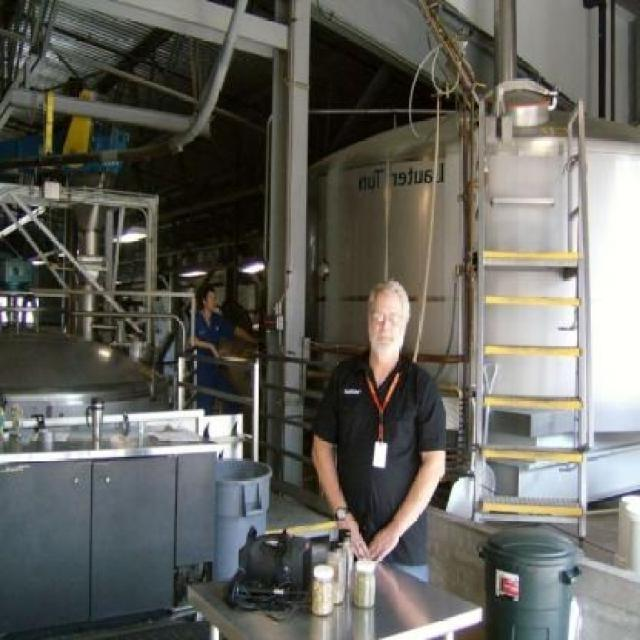stair: (476, 96, 594, 550)
